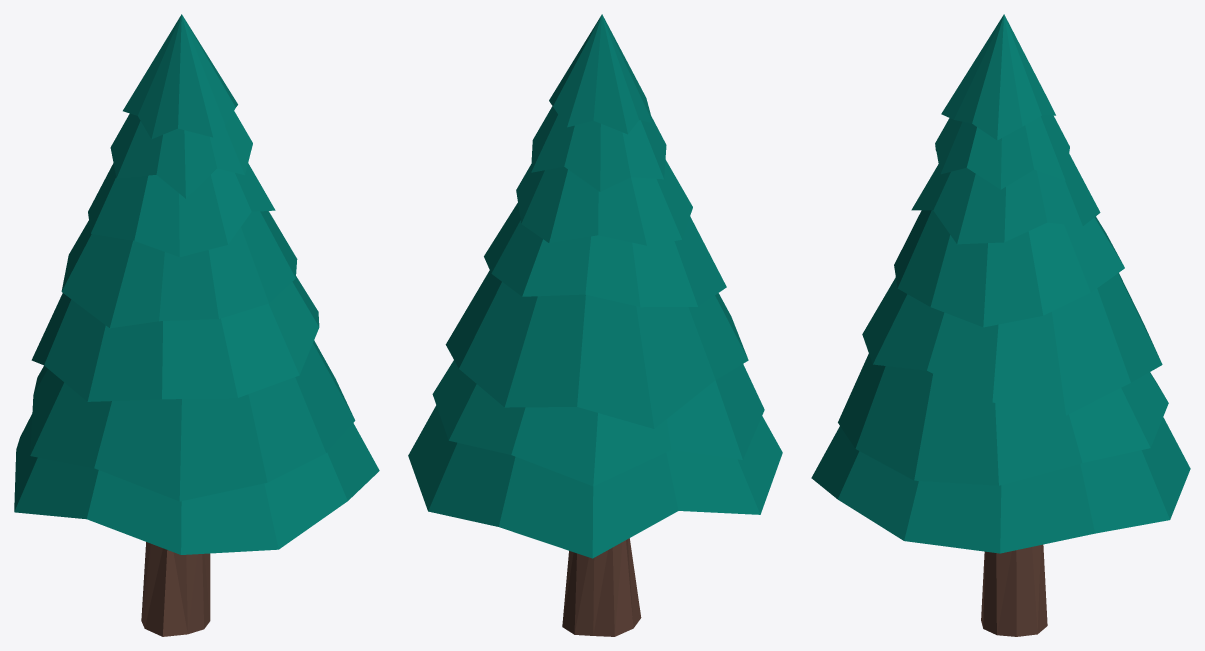
The picture shows the model from 3 angles, left to right: view 1: azimuth 30°, elevation 25°; view 2: azimuth 150°, elevation 25°; view 3: azimuth 270°, elevation 25°; orthographic projection.
Parts seen in each view (by area): view 1: node_MeshObject-1892698176-PolyPaper11; view 2: node_MeshObject-1892698176-PolyPaper11; view 3: node_MeshObject-1892698176-PolyPaper11.
Part boxes in pixels (left/top/right/bottom): node_MeshObject-1892698176-PolyPaper11: left=14, top=14, right=379, bottom=636; node_MeshObject-1892698176-PolyPaper11: left=408, top=14, right=782, bottom=636; node_MeshObject-1892698176-PolyPaper11: left=811, top=14, right=1190, bottom=636.
Bounding box in the file's own units: 1.49 × 2.59 × 1.46.
